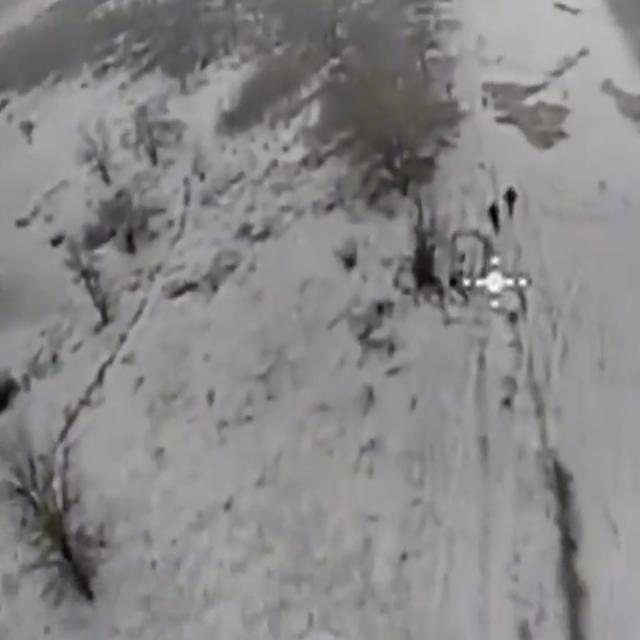infantry: (504, 182, 518, 220), (486, 200, 501, 233)
